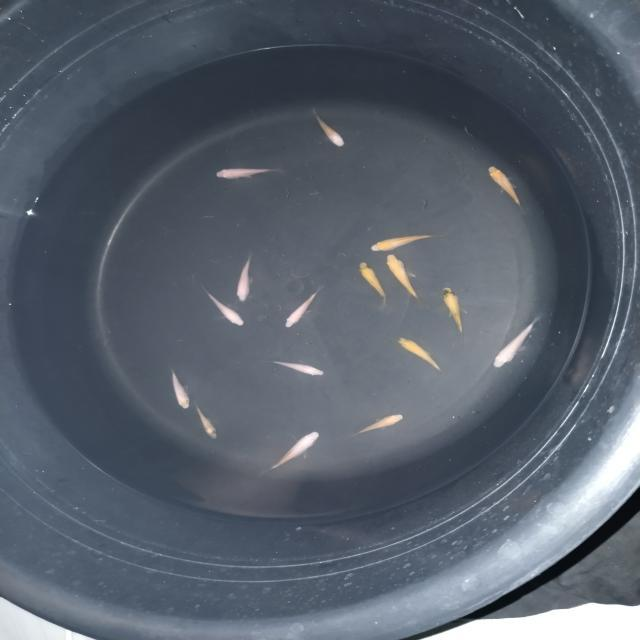nila: (490, 314, 546, 370), (384, 248, 428, 310), (392, 334, 450, 378), (264, 429, 320, 471), (480, 162, 528, 210), (358, 259, 397, 310), (283, 284, 328, 328), (200, 287, 248, 328), (441, 280, 468, 342), (308, 109, 348, 149), (345, 412, 408, 437), (212, 161, 286, 181), (233, 250, 258, 306), (266, 356, 326, 378), (168, 366, 191, 414), (193, 402, 219, 440)
